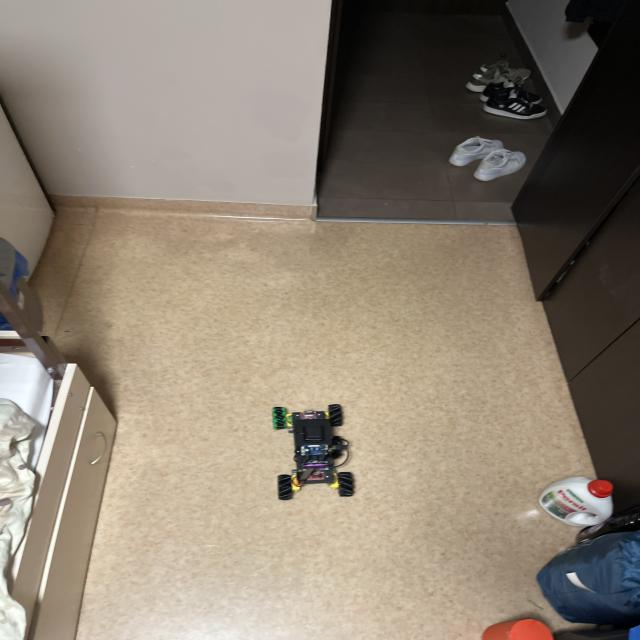robot: (272, 404, 354, 500)
